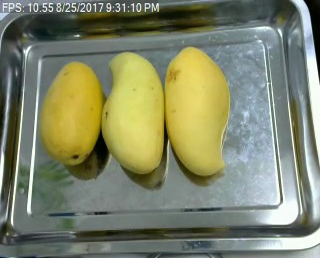Mango: (163, 47, 231, 176), (103, 51, 165, 174), (39, 61, 102, 163)
